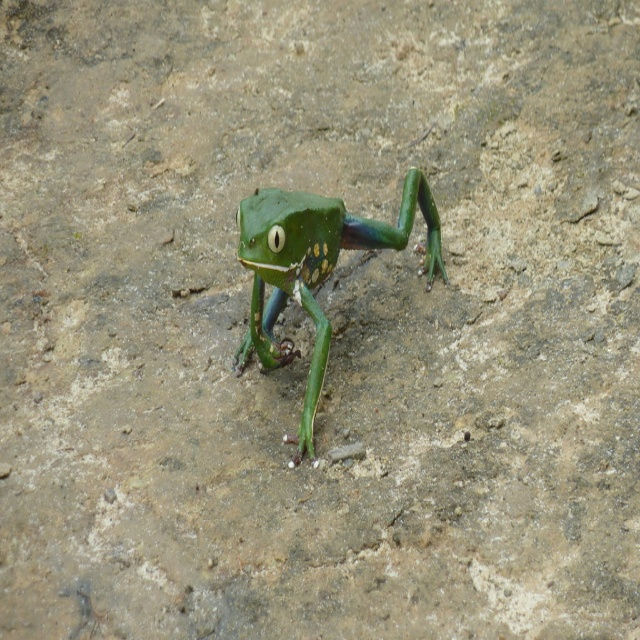Frog: (233, 166, 447, 470)
